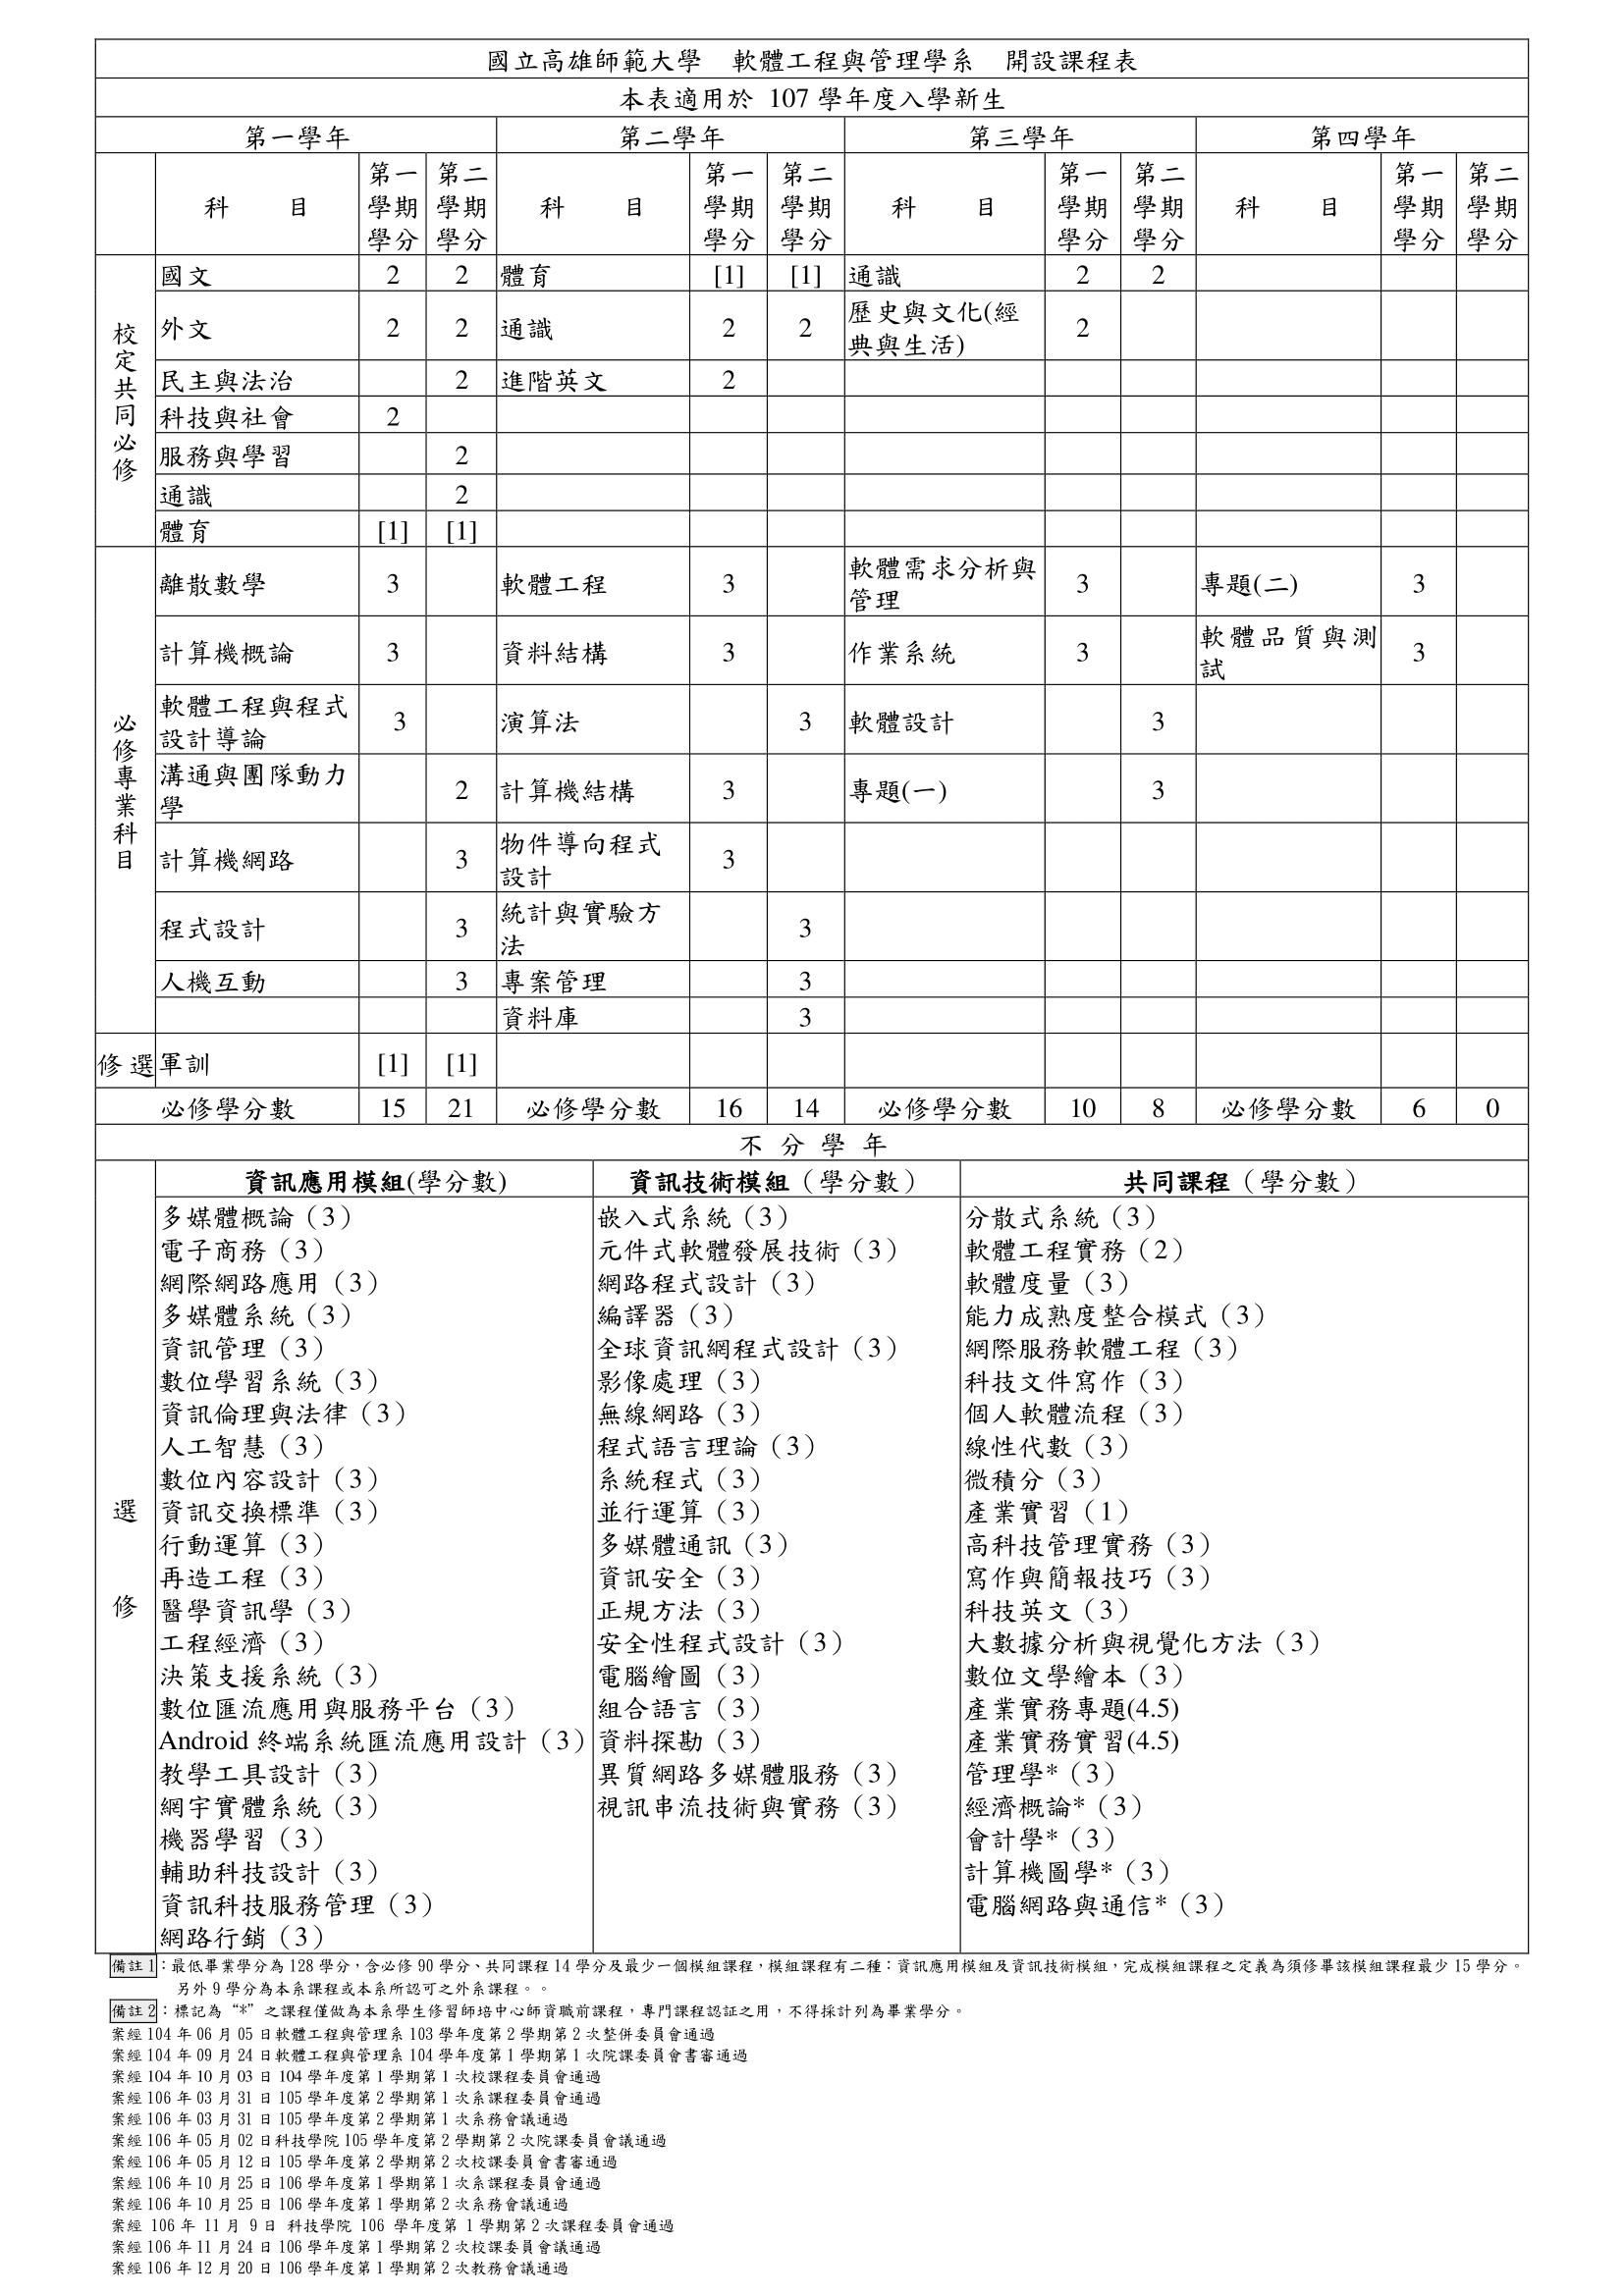table: (77, 23, 1547, 1957)
text: (97, 1957, 1538, 2284)
